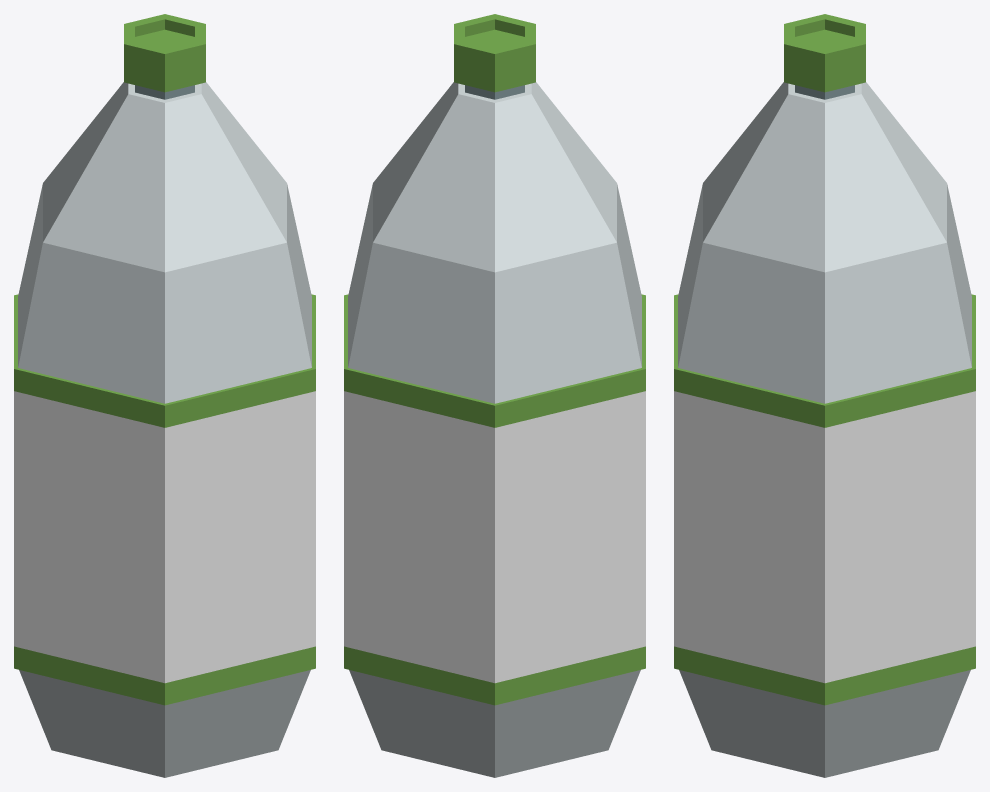
The model's file is EcofuelBottle.fbx.
3 renders of one model, left to right at view 1: azimuth 30°, elevation 25°; view 2: azimuth 150°, elevation 25°; view 3: azimuth 270°, elevation 25°, orthographic.
Visible parts, largest first — view 1: Cylinder; view 2: Cylinder; view 3: Cylinder.
Boxes of the visible parts, left/top/right/bottom form: Cylinder: left=14, top=14, right=315, bottom=777; Cylinder: left=344, top=14, right=645, bottom=777; Cylinder: left=674, top=14, right=975, bottom=777.
Bounding box in the file's own units: 205 × 448 × 178.
